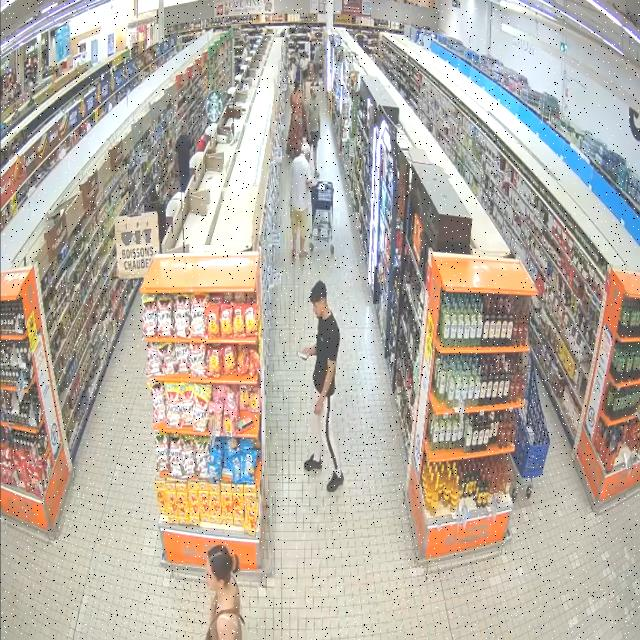hands: (314, 396, 324, 416), (301, 346, 313, 356), (306, 127, 311, 140), (313, 177, 318, 187), (318, 125, 321, 138), (175, 168, 179, 176)
person: (303, 281, 343, 492), (206, 546, 243, 639), (290, 143, 315, 258), (287, 82, 305, 158), (147, 184, 166, 252), (306, 87, 320, 177), (176, 123, 192, 191)
